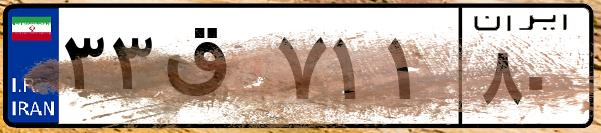0: (525, 38, 570, 115)
1: (385, 28, 445, 110), (330, 28, 385, 110)
3: (57, 26, 110, 100), (110, 28, 158, 98)
7: (270, 28, 330, 110)
8: (475, 38, 525, 113)
ق: (158, 20, 270, 120)
